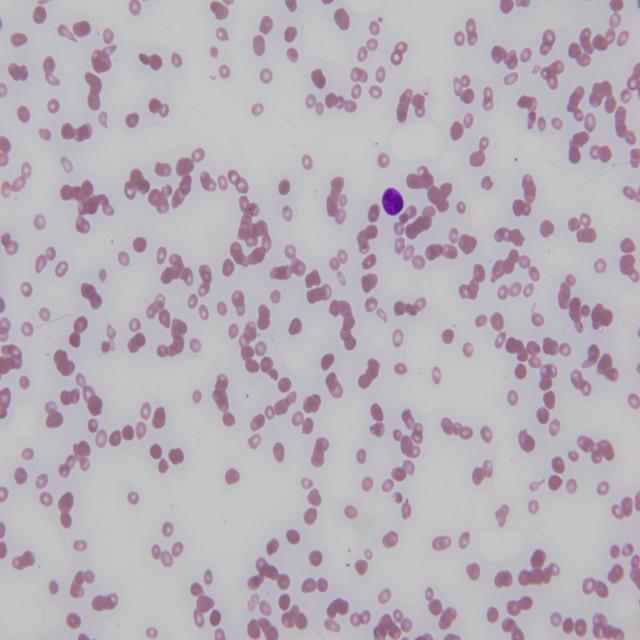cell: (381, 188, 404, 215)
